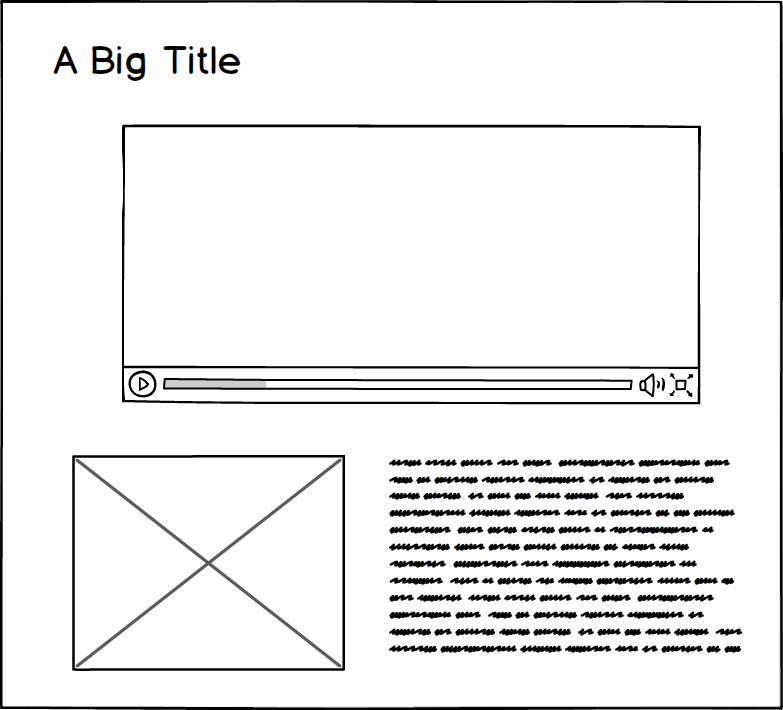h1: (46, 33, 251, 89)
image: (66, 451, 352, 676)
p: (387, 452, 749, 665)
video: (113, 121, 712, 413)
